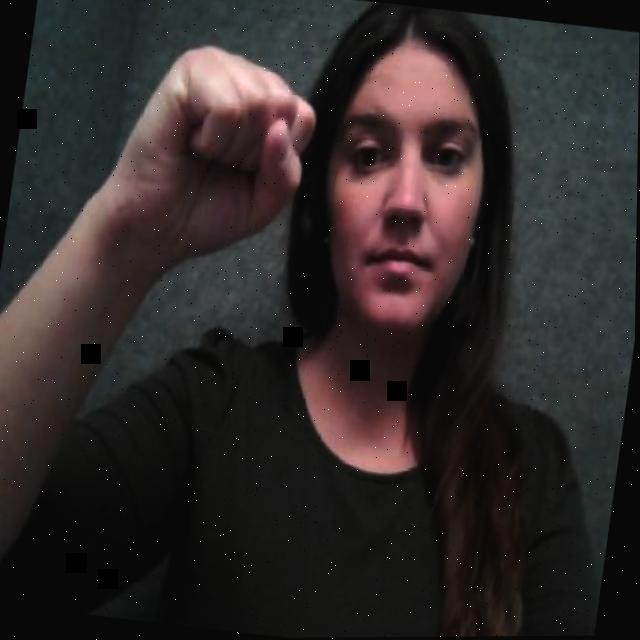Rock: (105, 26, 336, 291)
